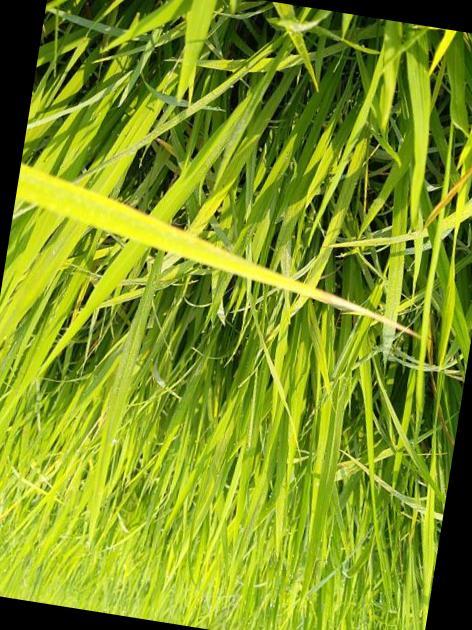Leaf Streak: (13, 171, 421, 336)
